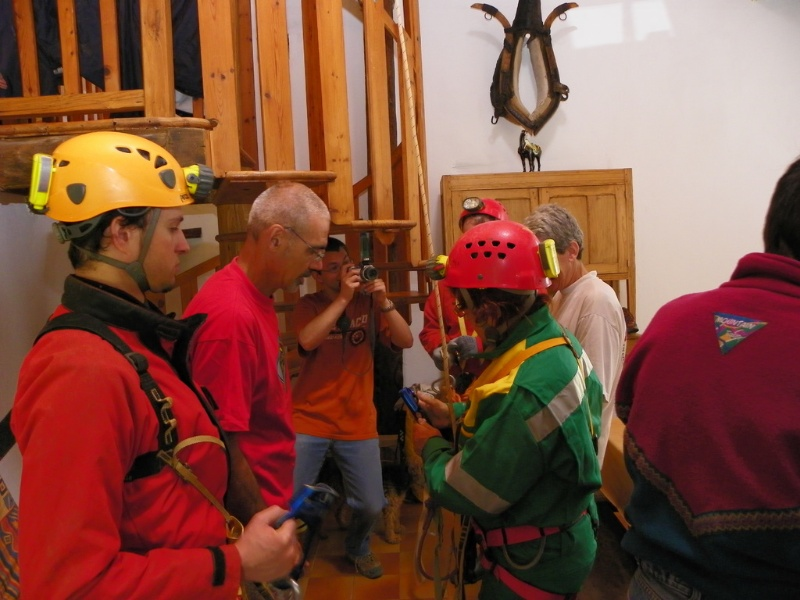Baret: (38, 132, 197, 221), (444, 220, 550, 289)
